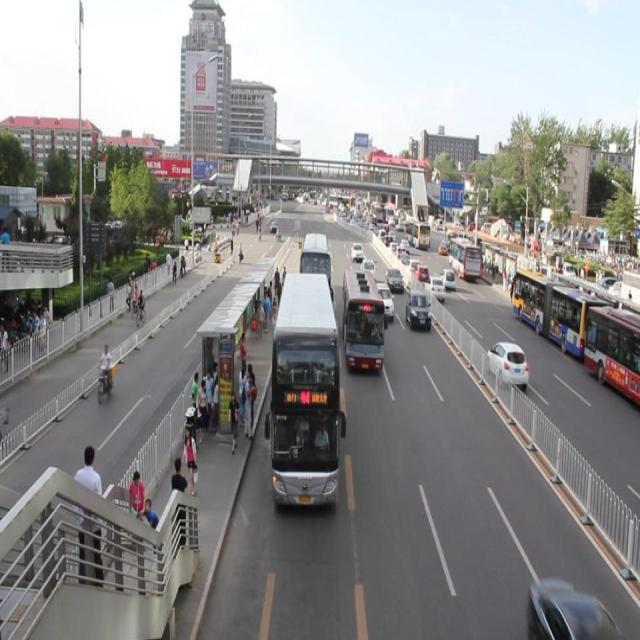car: (518, 567, 626, 640), (403, 289, 434, 334), (370, 279, 396, 323), (383, 264, 405, 293), (356, 255, 376, 277), (348, 239, 366, 262)
van: (264, 270, 349, 522), (336, 267, 389, 379), (295, 229, 336, 314)
